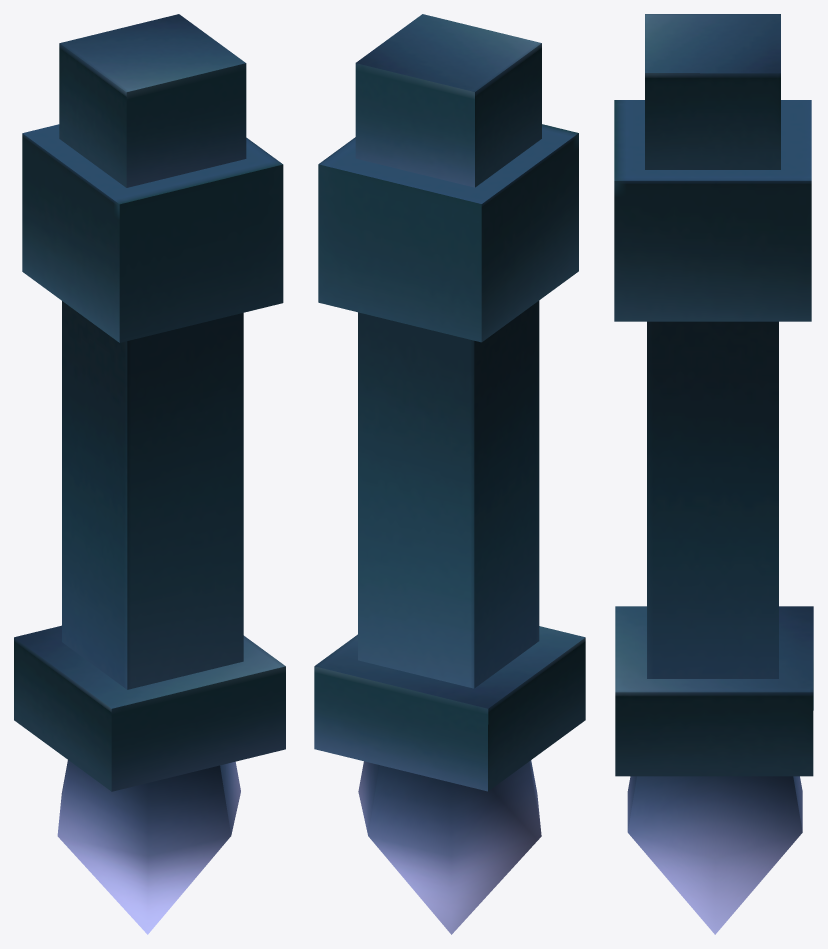
The model's file is ZhuZi_C.fbx.
3 renders of one model, left to right at view 1: azimuth 30°, elevation 25°; view 2: azimuth 150°, elevation 25°; view 3: azimuth 270°, elevation 25°, orthographic.
Visible parts, largest first — view 1: ZhuZi_C; view 2: ZhuZi_C; view 3: ZhuZi_C.
Part boxes in pixels (x1=…): ZhuZi_C: x1=14, y1=14, x2=285, y2=934; ZhuZi_C: x1=314, y1=14, x2=585, y2=934; ZhuZi_C: x1=614, y1=14, x2=813, y2=934.
Bounding box in the file's own units: 0.1786 × 0.8195 × 0.1656.
1 material, 1 textured.
